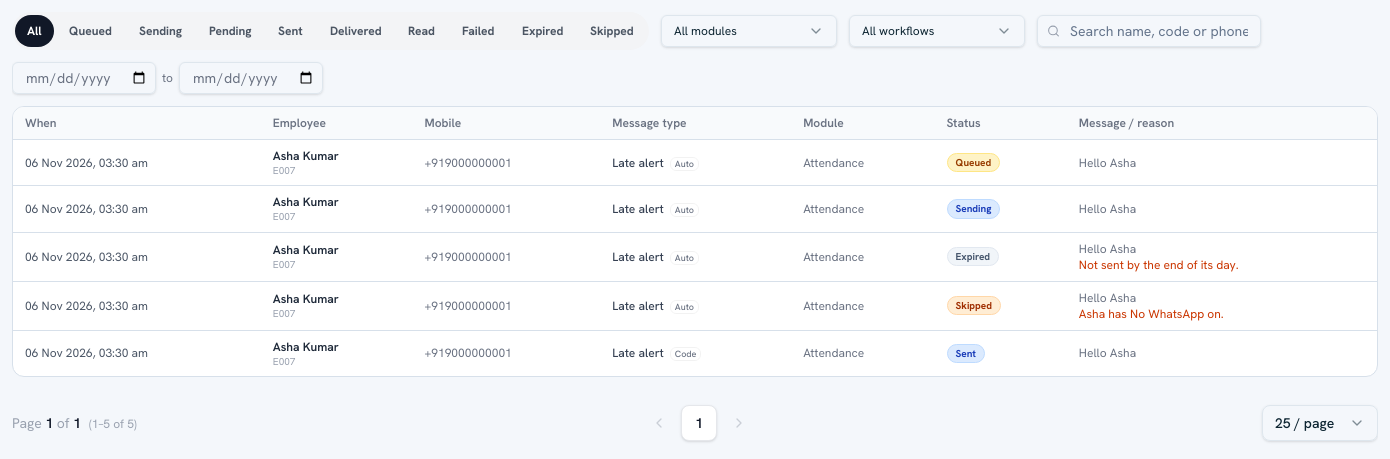
Scenario: WhatsApp Control messages and the sending queue › filters to Skipped, explains it, and shows the rule that held each message back
Click the tab "Skipped" at (612, 31), box top-left (578, 15), bottom-right (646, 47)
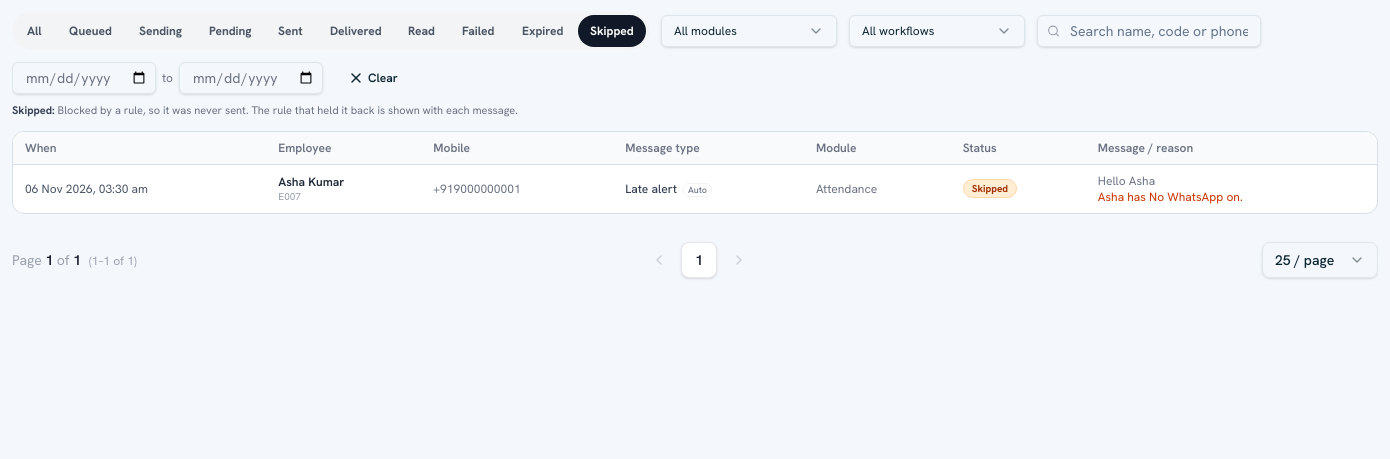
Result: the element with test id "whatsapp-status-help" shows "Blocked by a rule, so it was never sent." at top-left (58, 103), bottom-right (248, 117)
